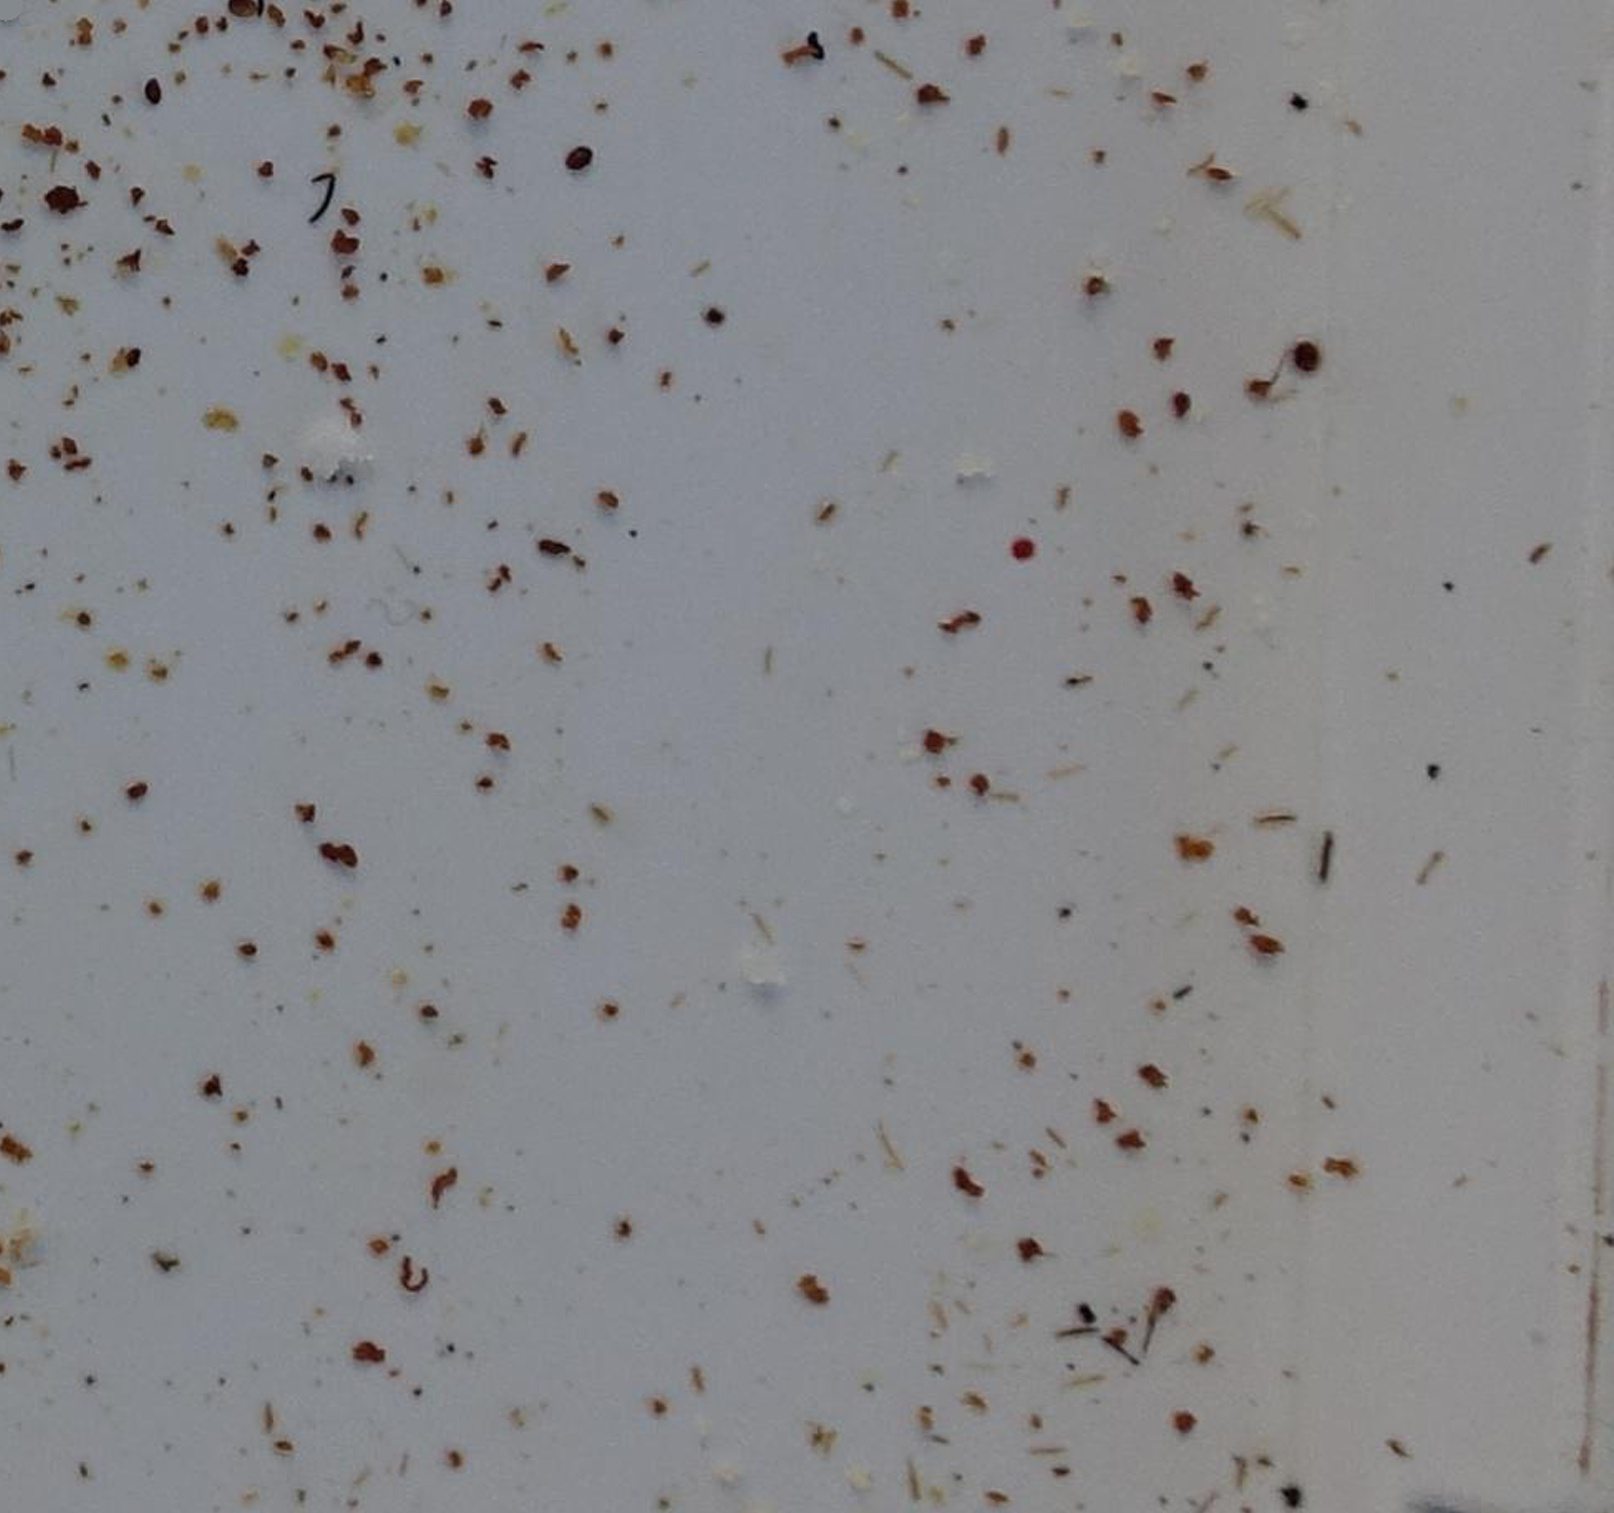Varroa: (1294, 341, 1315, 364), (567, 144, 589, 166), (142, 78, 164, 100)
